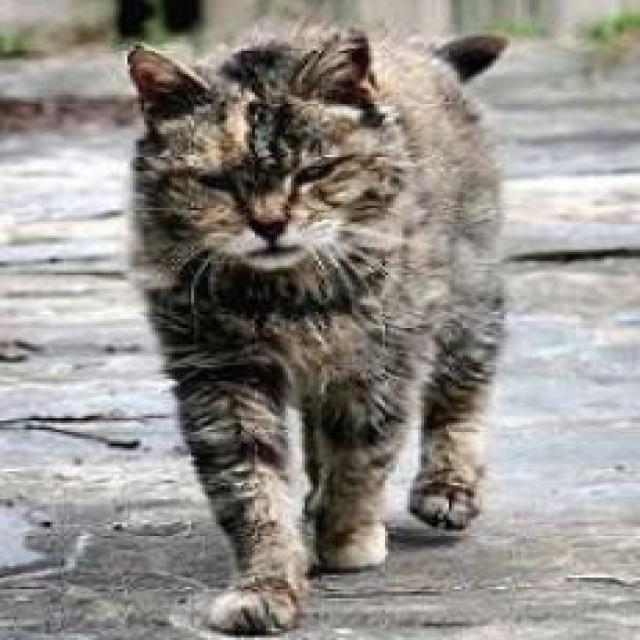cat: (129, 30, 507, 633)
